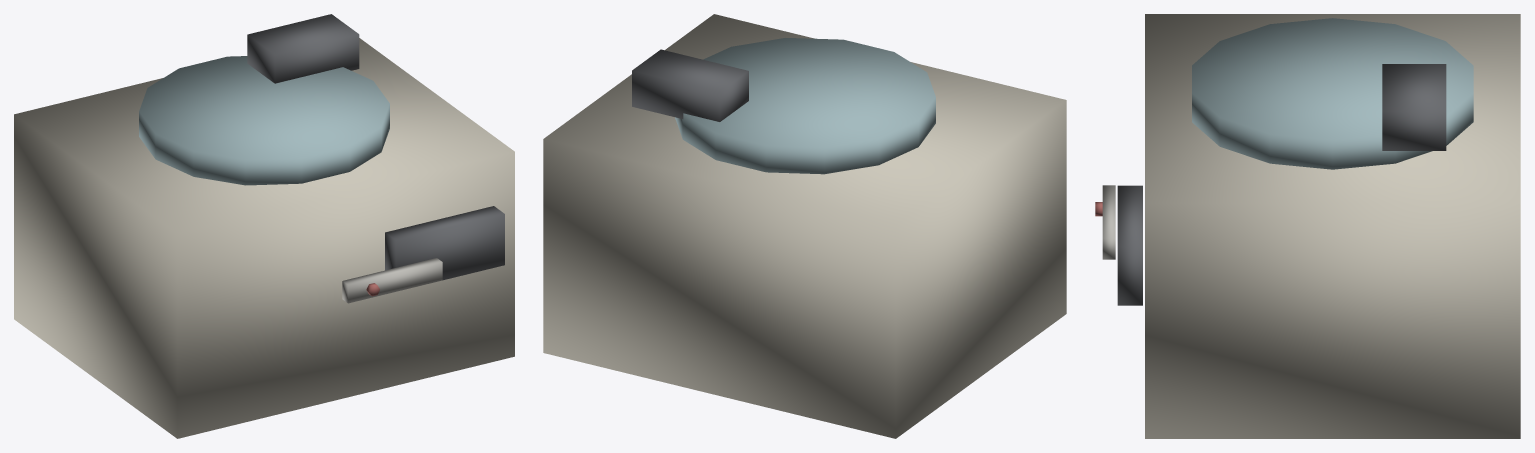
The model's file is centrifuge_bench_unit__service.glb.
3 renders of one model, left to right at view 1: azimuth 30°, elevation 25°; view 2: azimuth 150°, elevation 25°; view 3: azimuth 270°, elevation 25°, orthographic. The views are drawn at different scales.
Parts seen in each view (by area): view 1: world; view 2: world; view 3: world.
Boxes of the visible parts, bbox=[...] form: world: bbox=[14, 14, 514, 438]; world: bbox=[543, 14, 1066, 438]; world: bbox=[1095, 14, 1520, 438].
Size of the model in its own units: 0.62 by 0.4556 by 0.5885.
